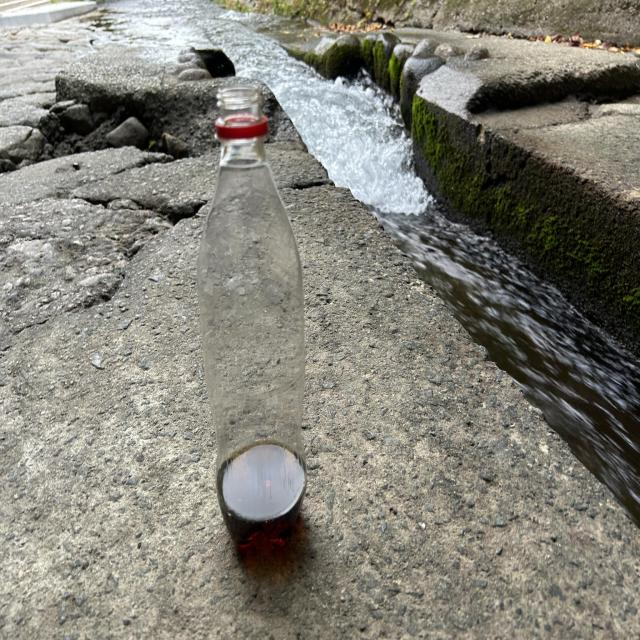low: (198, 84, 307, 548)
